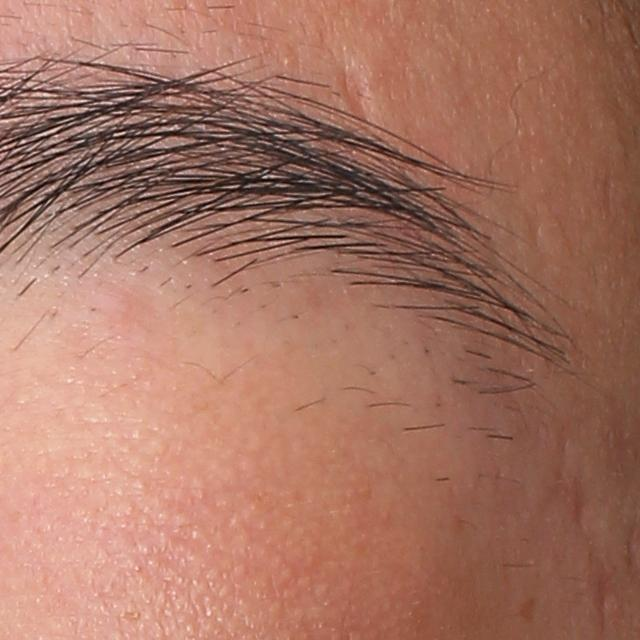atrophic_scar: (334, 57, 382, 147), (588, 568, 615, 634)
melasma: (514, 596, 541, 626)
